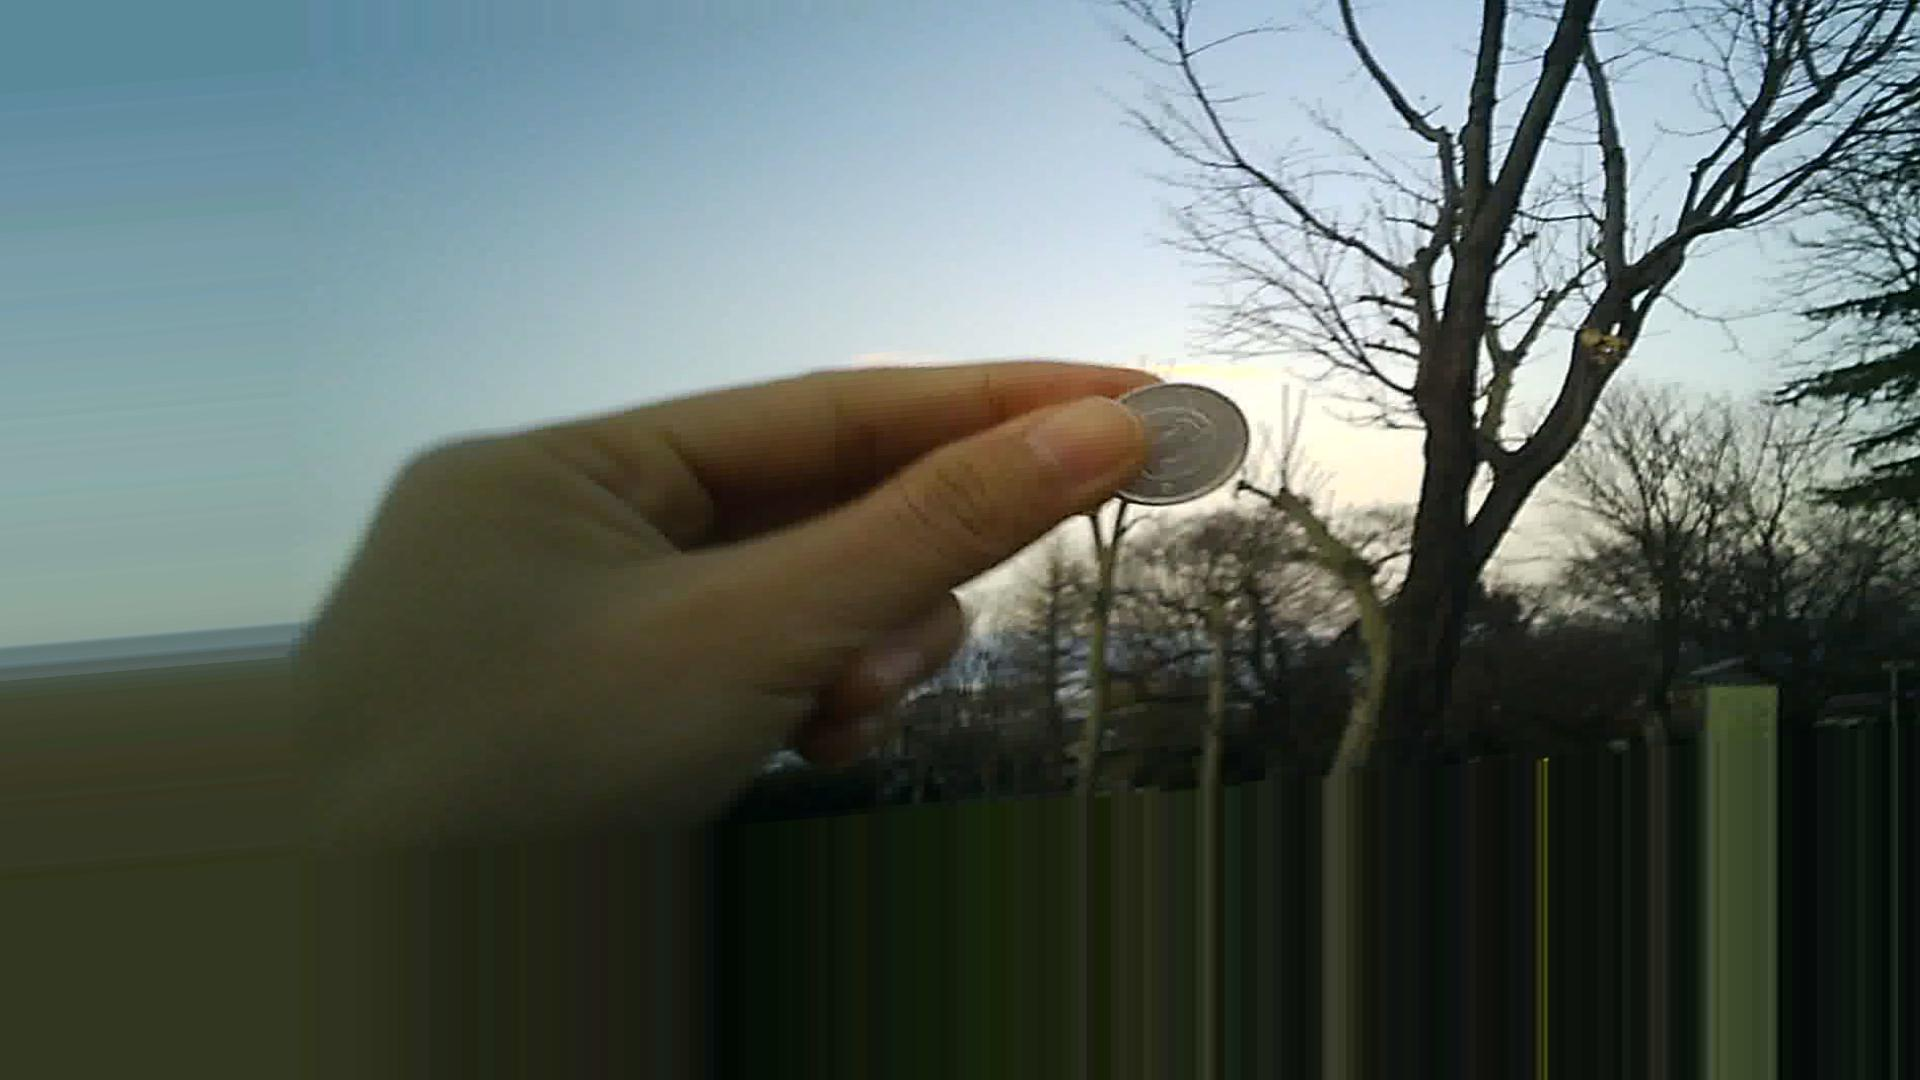1 Yen: (1089, 356, 1261, 505)
